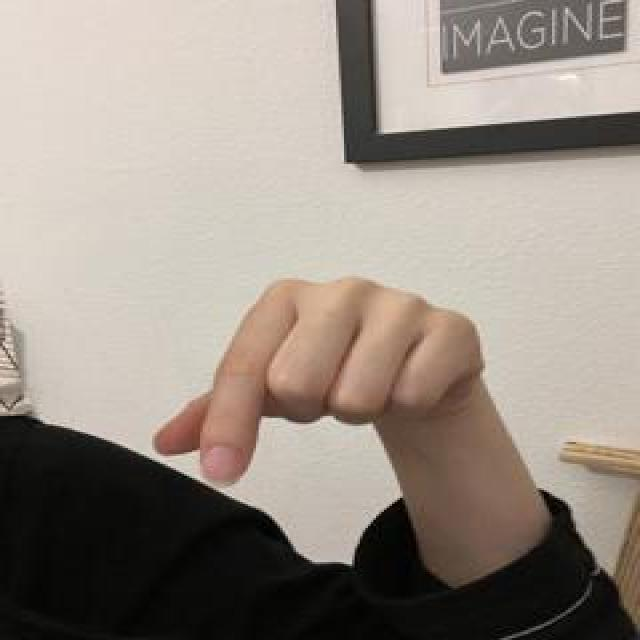Q: (145, 272, 492, 492)
